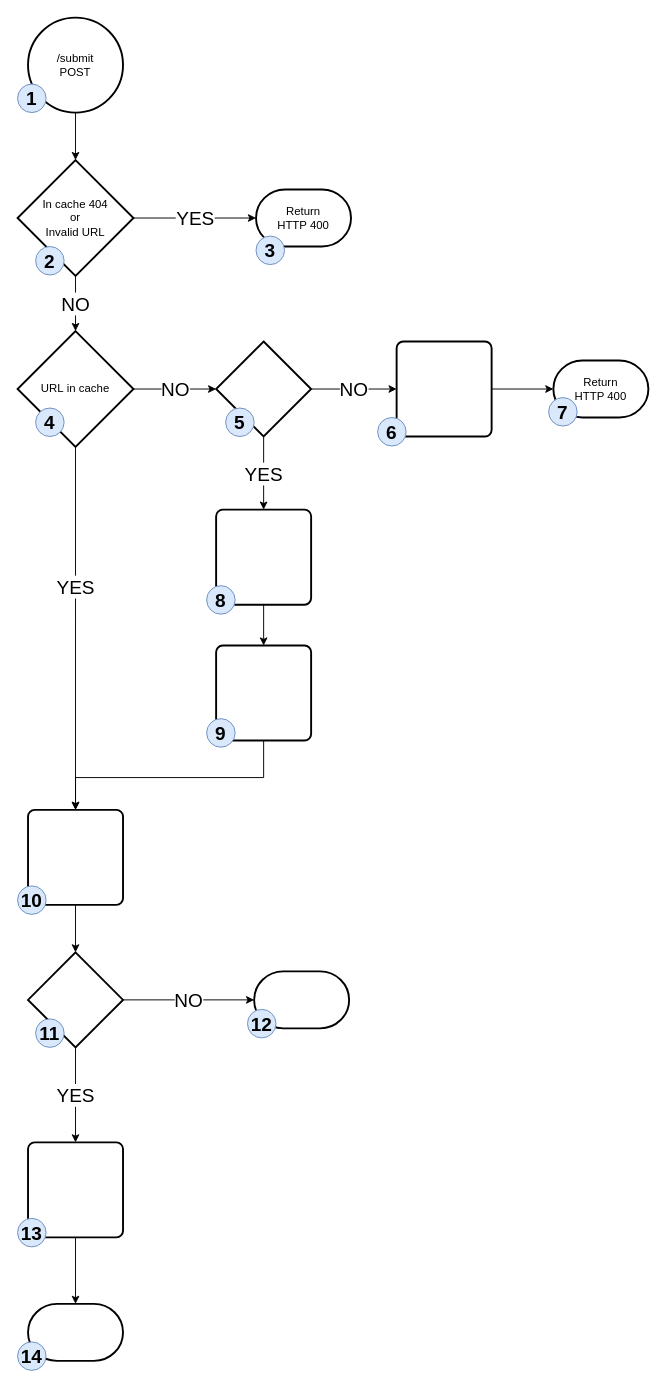
Image size: 665x1387. Some labels were removed from this diagram. The shapes that lost their labels are listed below. From the top down, each one's box as (x1, y1, x2, y2) in pixels, then its label:
(215, 340, 312, 437): Video Exists in YouTube
(395, 340, 492, 437): Add Video ID (url) to cache as non-existence
(215, 508, 312, 605): Add Video ID (url) to cache as existence
(215, 644, 312, 741): Reload Cache query
(27, 808, 124, 905): Send Task to convert video to MP3
(27, 951, 124, 1048): The task was recieved OK?
(253, 970, 350, 1029): Return HTTP 500
(27, 1141, 124, 1238): Add MP3 name to cache layer
(27, 1302, 124, 1361): Return HTTP 201
